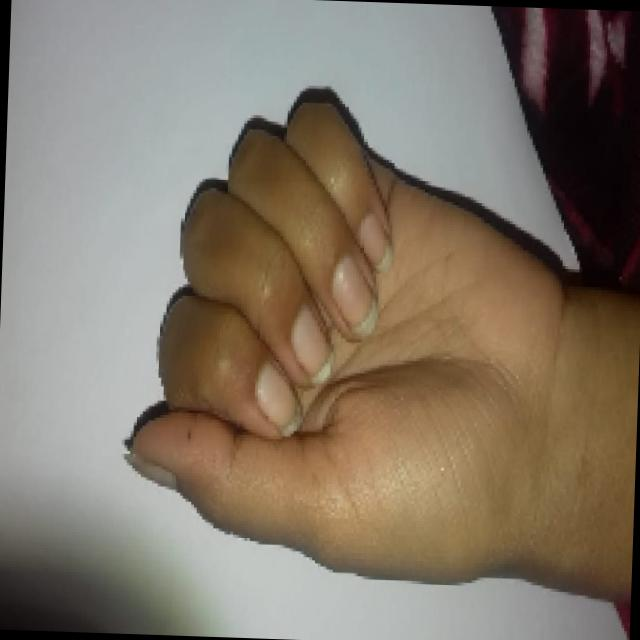Nail: (331, 259, 379, 339), (253, 362, 302, 439), (290, 309, 334, 386), (357, 218, 393, 272), (126, 452, 176, 488)
